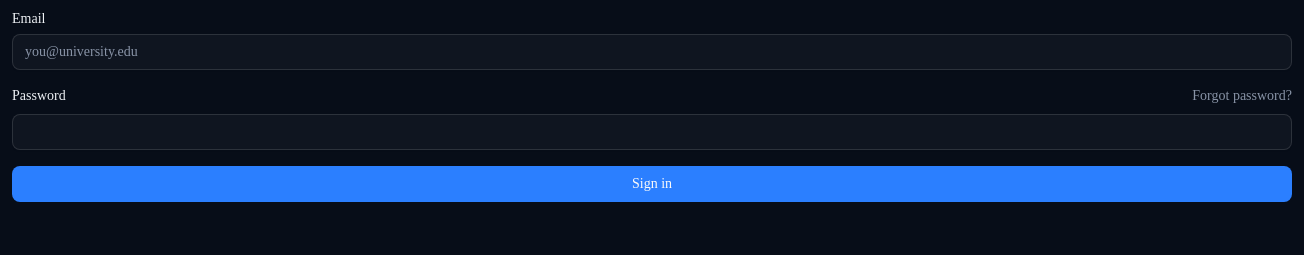
Scenario: LoginForm › shows the server action's error message after a failed submit
In the field labelled "Email": (652, 52) [12, 34, 1292, 70], type "ada@example.com"
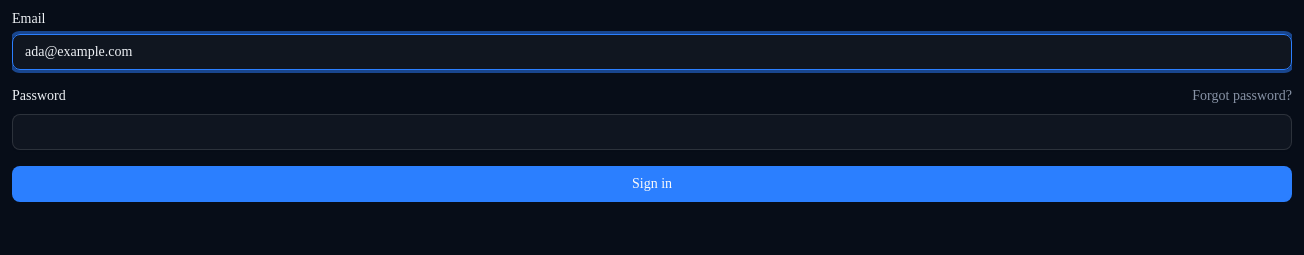
In the password field labelled "Password": (652, 132) [12, 114, 1292, 150], type "wrong-password"
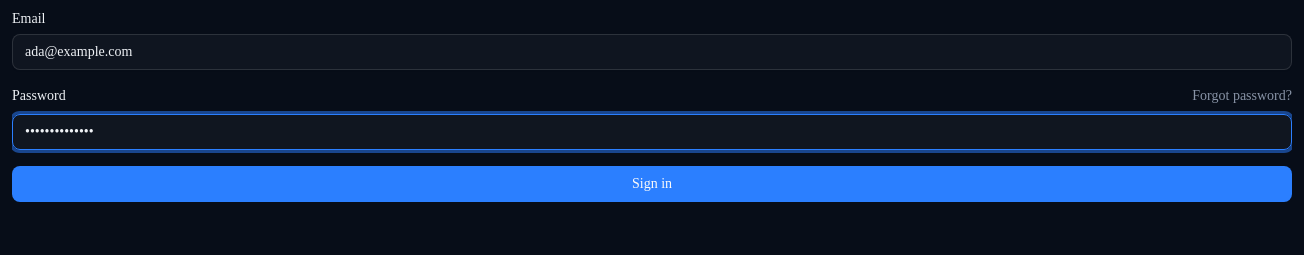
Click the button "Sign in": (652, 184) [12, 166, 1292, 202]
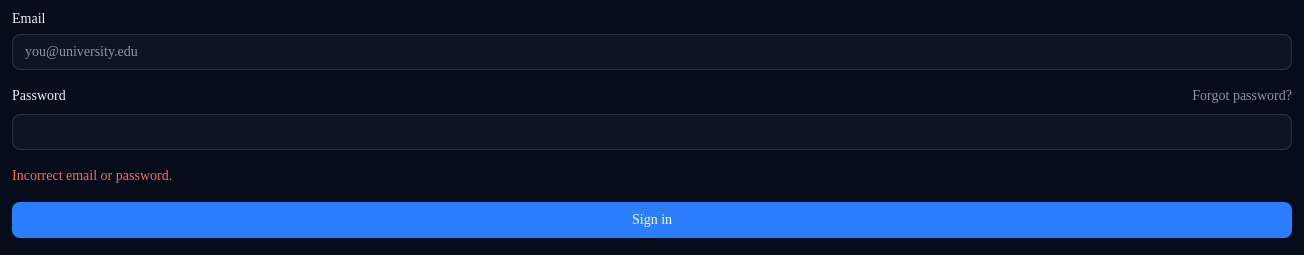
Result: the text "Incorrect email or password." is shown at [12, 168, 172, 183]
